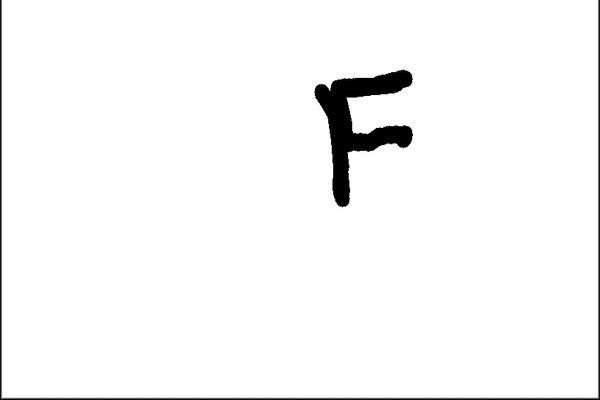F: (311, 62, 418, 211)
